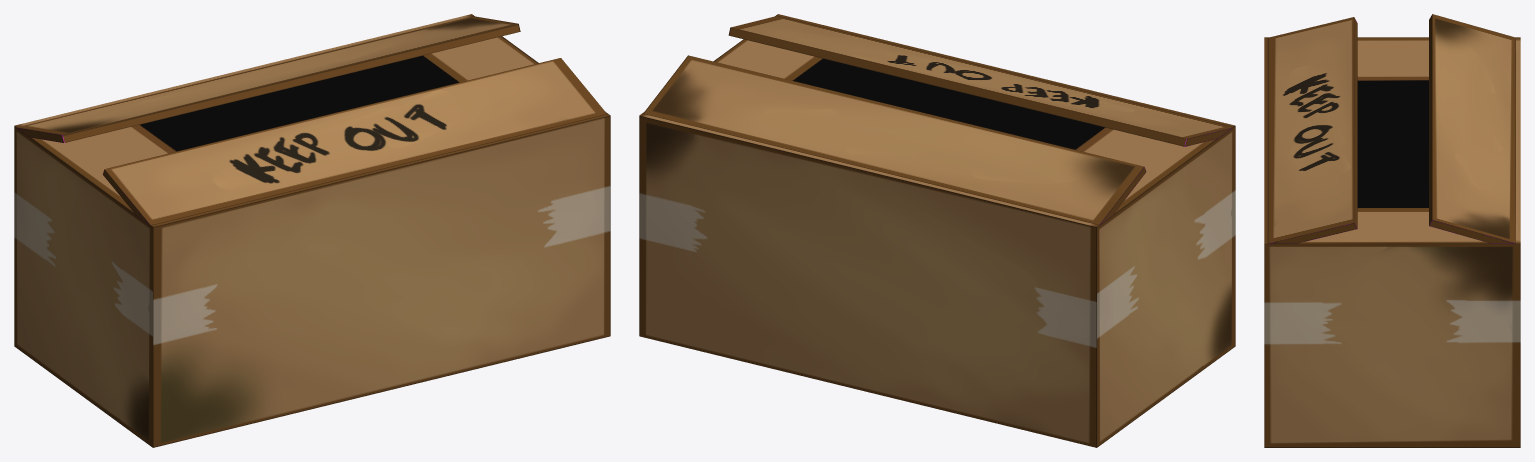
Rendered from importantbox.fbx.
3 views of the same model, side by side, from view 1: azimuth 30°, elevation 25°; view 2: azimuth 150°, elevation 25°; view 3: azimuth 270°, elevation 25° (orthographic). The views are drawn at different scales.
Visible parts, largest first — view 1: pCube3; view 2: pCube3; view 3: pCube3.
Part boxes in pixels (x1=…): pCube3: x1=14, y1=14, x2=610, y2=447; pCube3: x1=639, y1=14, x2=1235, y2=447; pCube3: x1=1264, y1=14, x2=1520, y2=447.
Bounding box in the file's own units: 9.14 × 4.7 × 4.8.
1 material, 1 textured.
